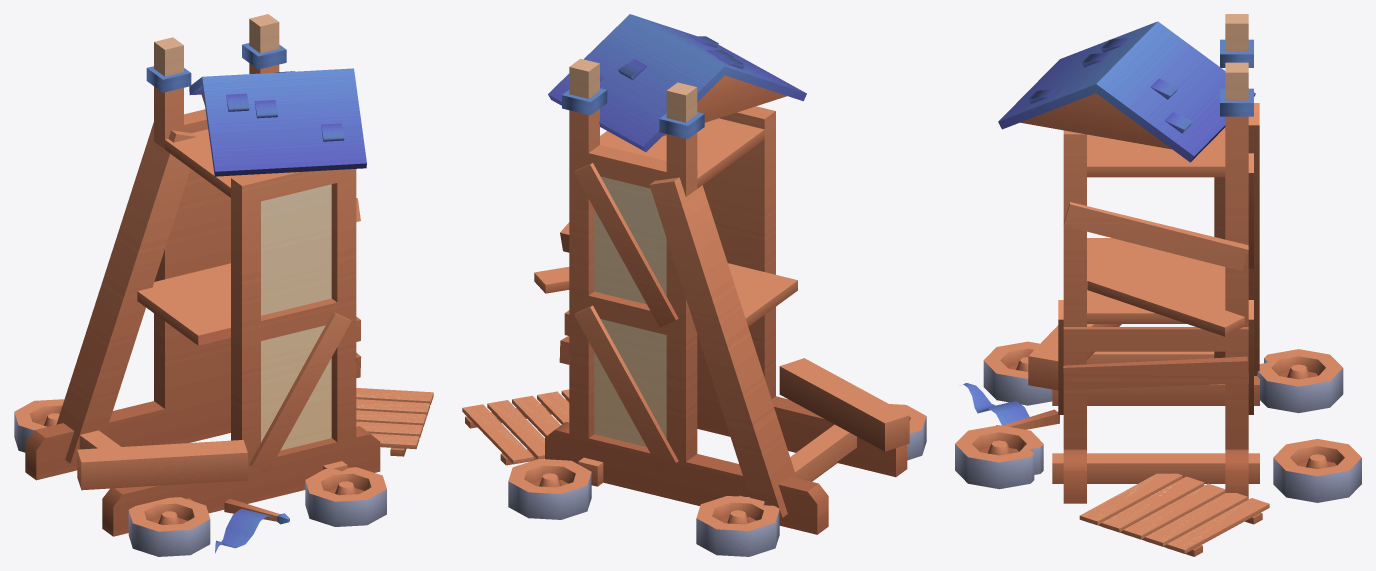
File: siege-tower-demolished.glb
The picture shows the model from 3 angles, left to right: view 1: azimuth 30°, elevation 25°; view 2: azimuth 150°, elevation 25°; view 3: azimuth 270°, elevation 25°; orthographic projection. The views are drawn at different scales.
Visible parts, largest first — view 1: siege-tower-demolished; view 2: siege-tower-demolished; view 3: siege-tower-demolished.
Part boxes in pixels (bbox=[...]): siege-tower-demolished: bbox=[14, 14, 433, 556]; siege-tower-demolished: bbox=[462, 14, 926, 556]; siege-tower-demolished: bbox=[955, 14, 1361, 556].
Bounding box in the file's own units: 2.17 × 2.1 × 1.85.
1 material, 1 textured.
